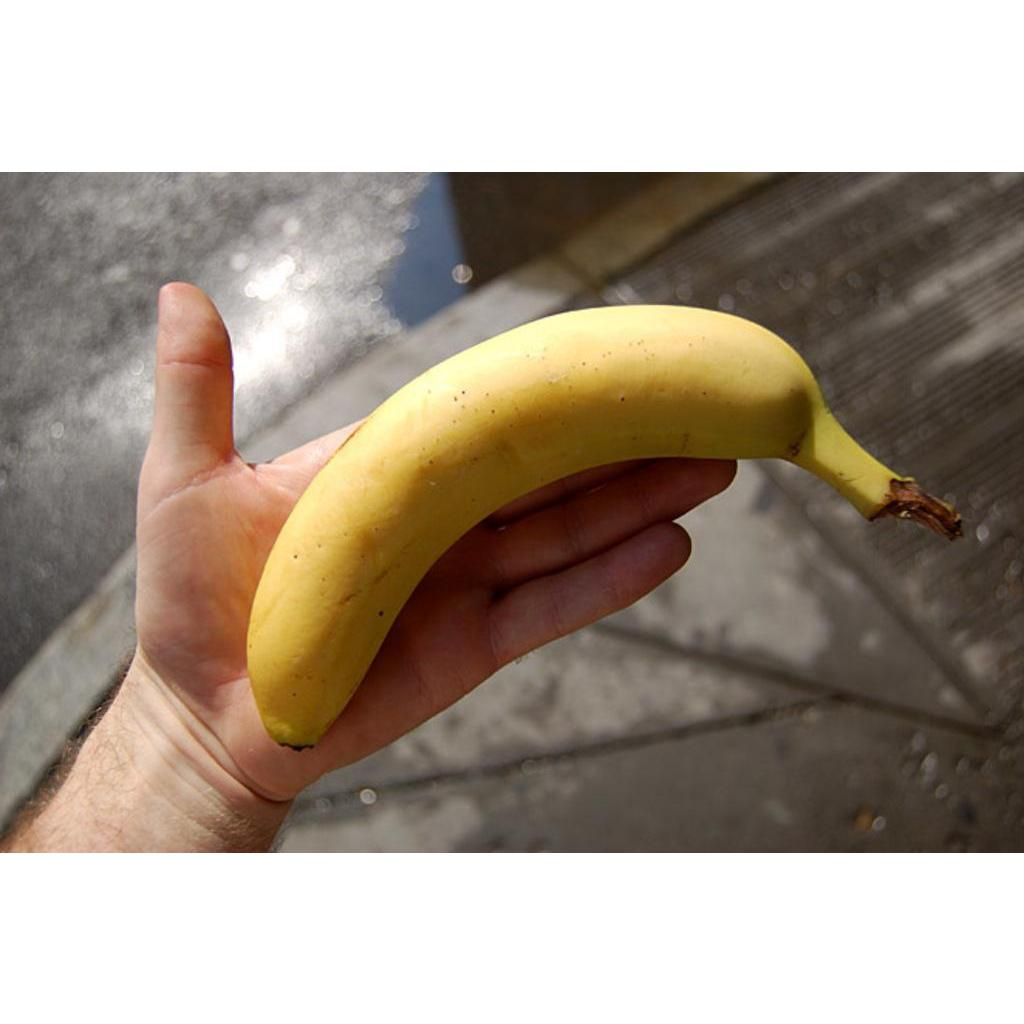banana: (244, 305, 902, 752)
